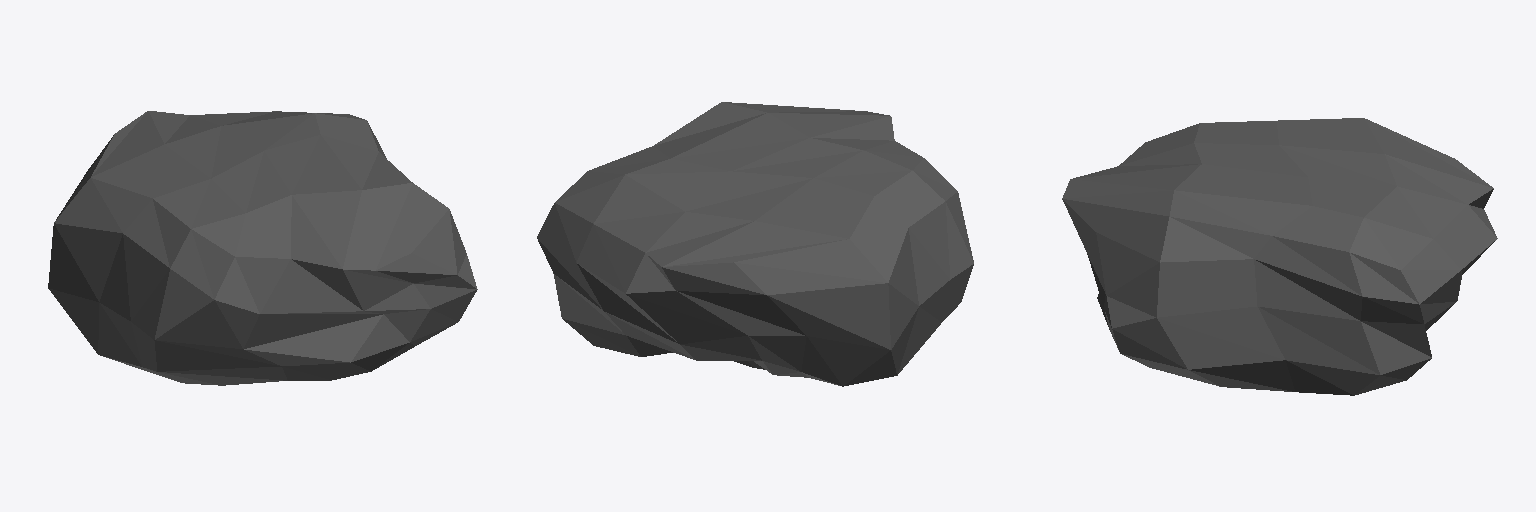
Rendered from stone.obj.
3 views of the same model, side by side, from view 1: azimuth 30°, elevation 25°; view 2: azimuth 150°, elevation 25°; view 3: azimuth 270°, elevation 25° (orthographic).
Visible parts, largest first — view 1: Cube; view 2: Cube; view 3: Cube.
Boxes of the visible parts, box(x1,y1,x2,y2) form: Cube: box(48, 111, 477, 385); Cube: box(537, 102, 973, 386); Cube: box(1062, 118, 1497, 395).
Size of the model in its own units: 3.18 by 1.68 by 3.63.